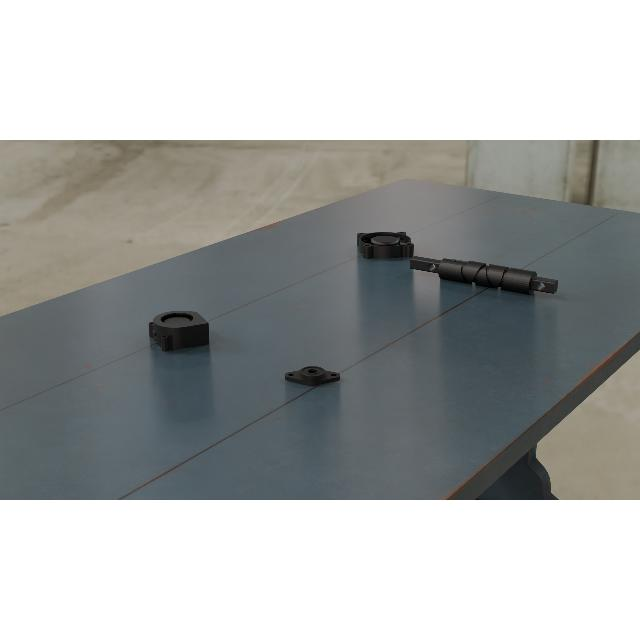Pieza1: (408, 249, 560, 301)
Pieza2: (284, 365, 340, 385)
Pieza3: (146, 307, 210, 353)
Pieza4: (356, 232, 416, 260)
